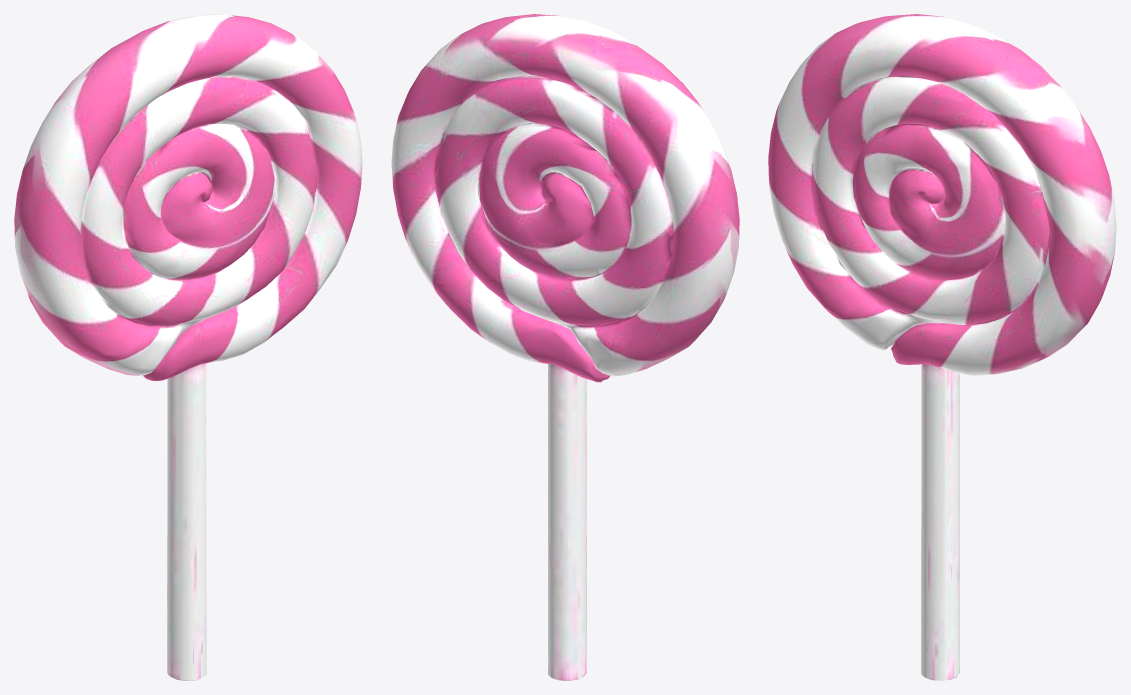
Rendered from prop_lollipop.glb.
3 views of the same model, side by side, from view 1: azimuth 30°, elevation 25°; view 2: azimuth 150°, elevation 25°; view 3: azimuth 330°, elevation 25° (orthographic).
Visible parts, largest first — view 1: prop_lollipop; view 2: prop_lollipop; view 3: prop_lollipop.
Boxes of the visible parts, x1,y1,x2,y2 form: prop_lollipop: (14, 14, 362, 680); prop_lollipop: (391, 14, 739, 680); prop_lollipop: (768, 14, 1116, 680).
Bounding box in the file's own units: 1.83 × 3.4 × 0.4033.
Materials: 1 (1 with a texture image).
